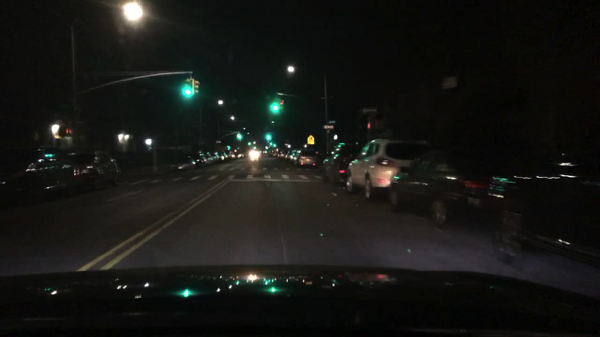car: (387, 149, 507, 228), (342, 140, 435, 201), (0, 148, 80, 206), (70, 148, 121, 191), (322, 141, 360, 188), (292, 149, 320, 169), (174, 155, 199, 172), (195, 155, 208, 168), (278, 149, 290, 161), (226, 150, 239, 161), (288, 149, 299, 162), (218, 150, 229, 162), (210, 151, 221, 163), (235, 150, 246, 160), (249, 150, 260, 160), (269, 148, 279, 158), (205, 155, 215, 164), (284, 151, 294, 160)
traffic light: (59, 125, 74, 139), (182, 78, 192, 98), (192, 78, 202, 97), (278, 99, 286, 114), (272, 99, 279, 114), (235, 132, 244, 142), (366, 120, 374, 130)
traffic sign: (358, 107, 379, 115), (306, 134, 316, 146), (321, 124, 335, 130), (327, 119, 339, 124)
